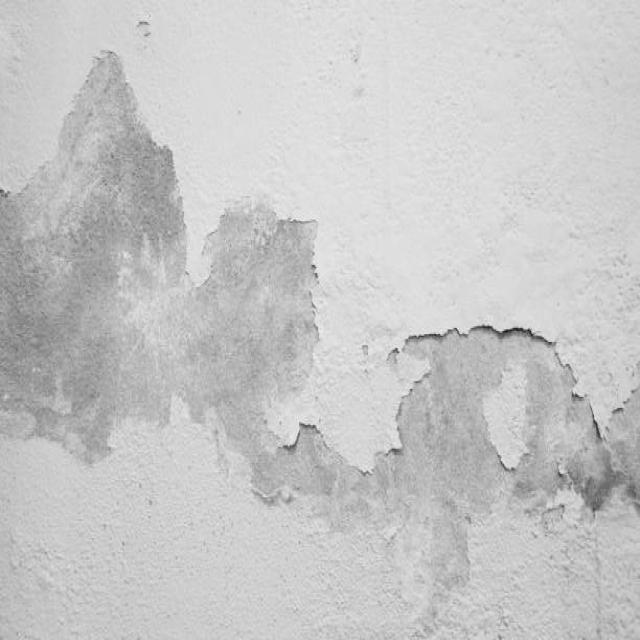peeling paint: (0, 8, 640, 574)
